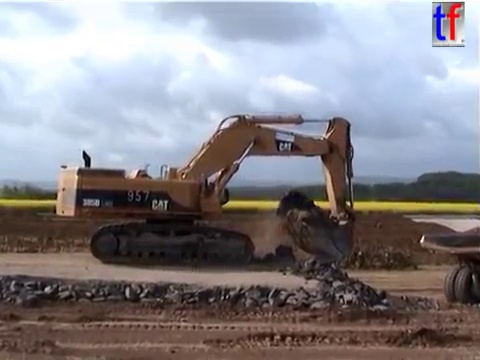excavator: (53, 110, 360, 269)
truck: (417, 230, 480, 306)
